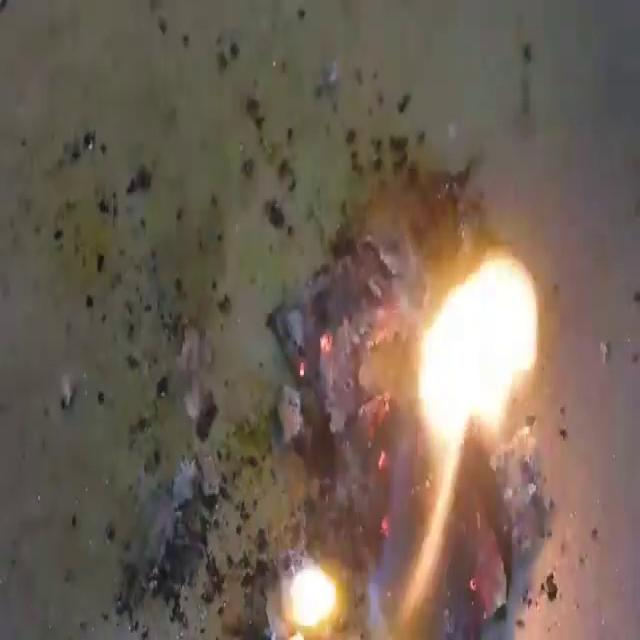Fire: (85, 103, 577, 640)
